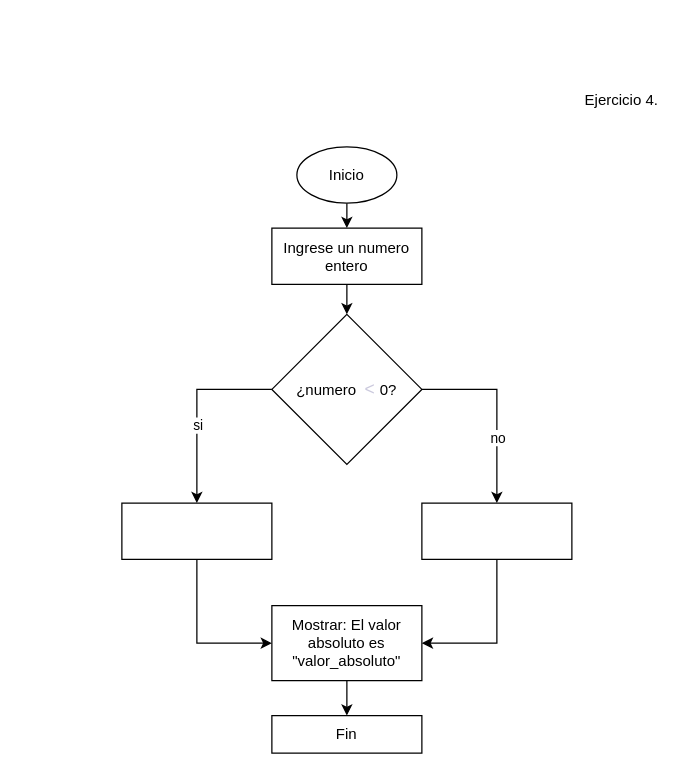
Image size: 693x775. Some labels were removed from this diagram. Each missing label, with the centre of its shape:
valor_absoluto = "numero": point (496, 530)
valor_absoluto = "numero" * -1: point (196, 530)
